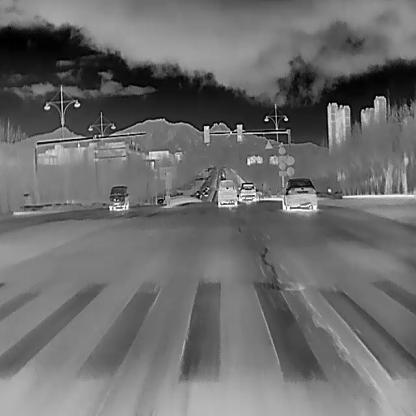car: (281, 177, 317, 212), (217, 179, 238, 207), (108, 185, 129, 212), (238, 181, 258, 202), (203, 191, 208, 196), (196, 189, 200, 195), (206, 185, 209, 190), (203, 189, 206, 194), (205, 187, 207, 191)
